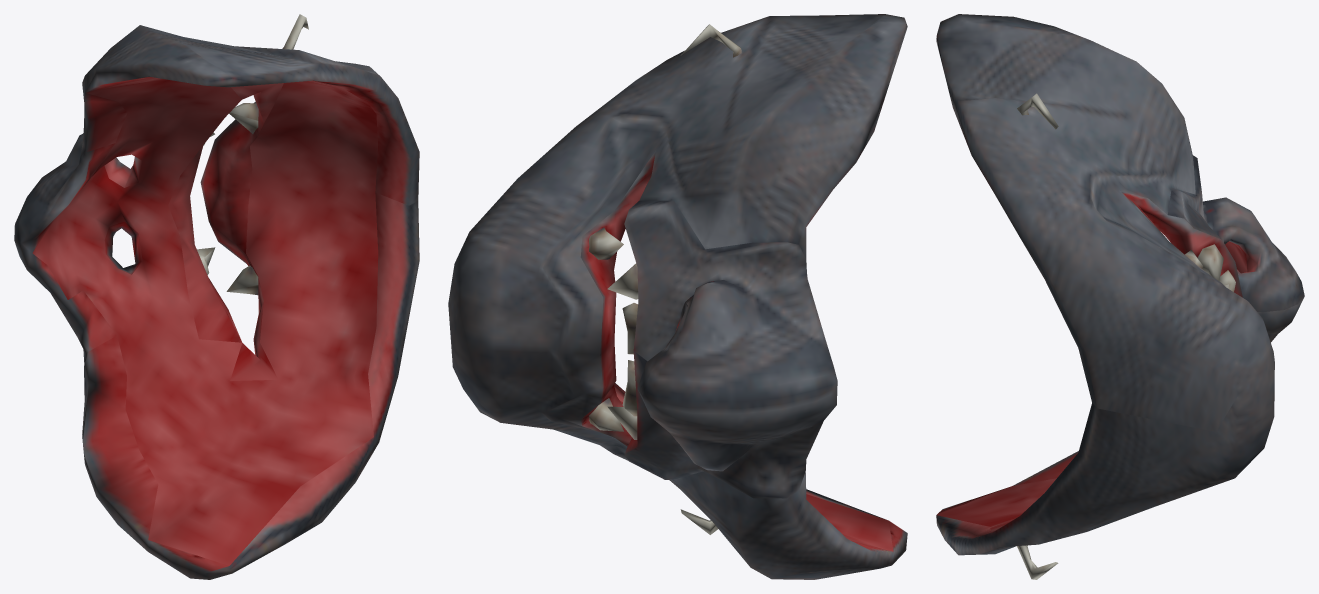
File: M_SakaiMask.fbx
3 views of the same model, side by side, from view 1: azimuth 30°, elevation 25°; view 2: azimuth 150°, elevation 25°; view 3: azimuth 270°, elevation 25° (orthographic). The views are drawn at different scales.
Visible parts, largest first — view 1: SakaiMask; view 2: SakaiMask; view 3: SakaiMask.
Boxes of the visible parts, x1,y1,x2,y2 form: SakaiMask: (14,14,419,579); SakaiMask: (448,14,907,579); SakaiMask: (936,14,1304,579).
Bounding box in the file's own units: 0.0849 × 0.1166 × 0.0773.
